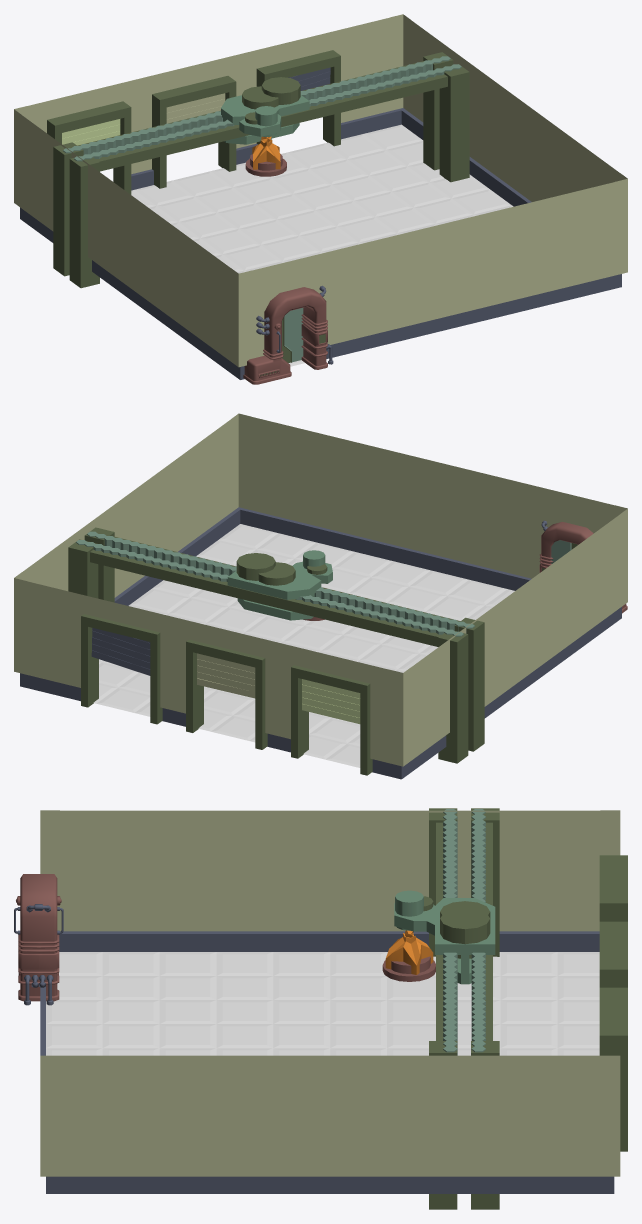
File: завод02 ..fbx
3 views of the same model, one above another, from view 1: azimuth 30°, elevation 25°; view 2: azimuth 150°, elevation 25°; view 3: azimuth 270°, elevation 25° (orthographic). The views are drawn at different scales.
Parts seen in each view (by area): view 1: wall, Plane, rails, machine, Space_Door1.005, door.02, door03, door01, Space_Door1, Space_Door1.002; view 2: wall, Plane, rails, door01, door03, door.02, machine, Space_Door1; view 3: wall, Plane, rails, machine, door01, Space_Door1, Space_Door1.005, door03, door.02.
Boxes of the visible parts, <box> form: wall: <box>14,14,627,379</box>; Plane: <box>131,124,513,366</box>; rails: <box>53,52,469,288</box>; machine: <box>221,77,309,176</box>; Space_Door1.005: <box>246,286,333,384</box>; door.02: <box>152,76,236,188</box>; door03: <box>47,101,131,194</box>; door01: <box>256,50,340,146</box>; Space_Door1: <box>243,285,322,379</box>; Space_Door1.002: <box>284,309,296,362</box>; wall: <box>14,413,627,779</box>; Plane: <box>93,524,514,767</box>; rails: <box>68,527,484,763</box>; door01: <box>81,614,162,724</box>; door03: <box>291,665,372,775</box>; door.02: <box>186,639,267,749</box>; machine: <box>227,550,332,620</box>; Space_Door1: <box>539,520,593,572</box>; wall: <box>40,810,620,1193</box>; Plane: <box>46,952,599,1055</box>; rails: <box>429,808,499,1209</box>; machine: <box>382,890,495,984</box>; door01: <box>599,987,627,1151</box>; Space_Door1: <box>38,874,63,1005</box>; Space_Door1.005: <box>14,874,38,1005</box>; door03: <box>599,855,627,921</box>; door.02: <box>599,921,627,987</box>.
Size of the model in its own units: 4156 by 1407 by 4320.
